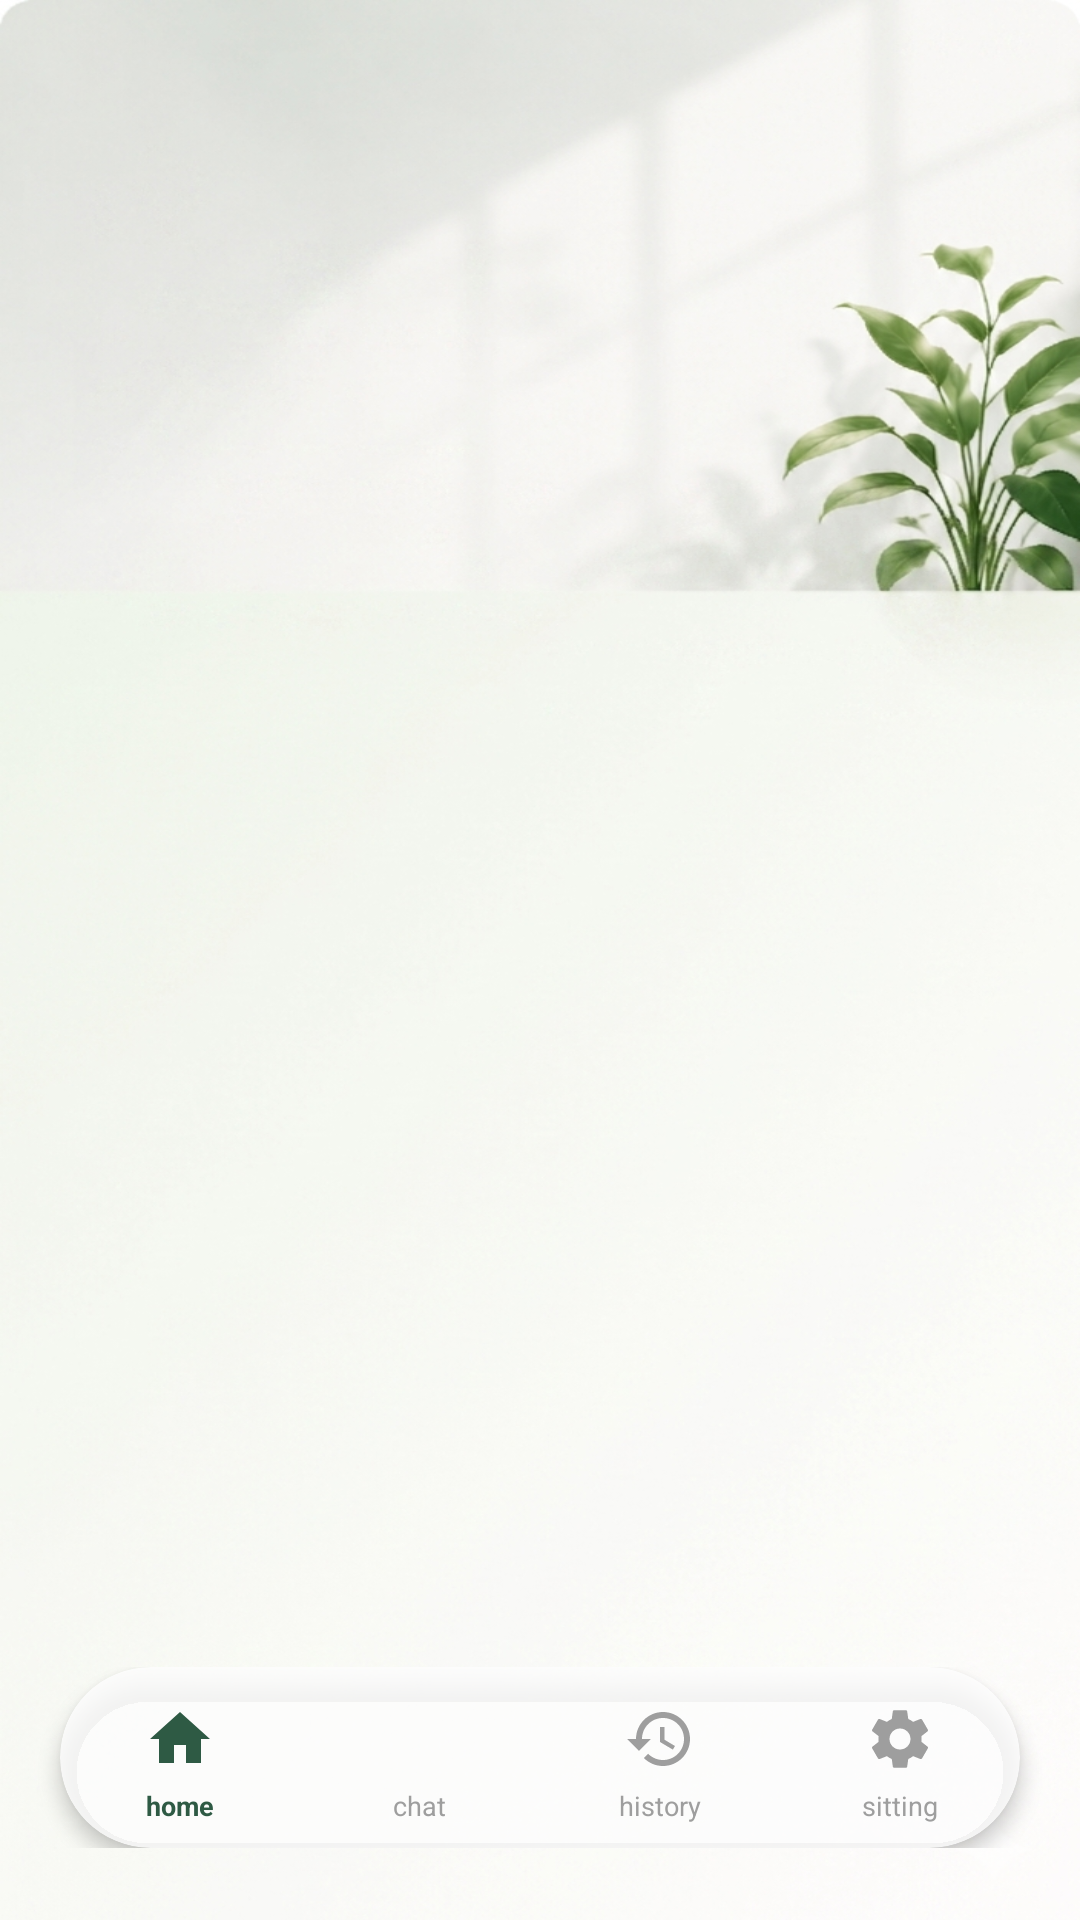

Screen size 1080w x 1920h. Icon name, then its center in pixels as (x=x, y=y):
settings: (x=900, y=1739)
